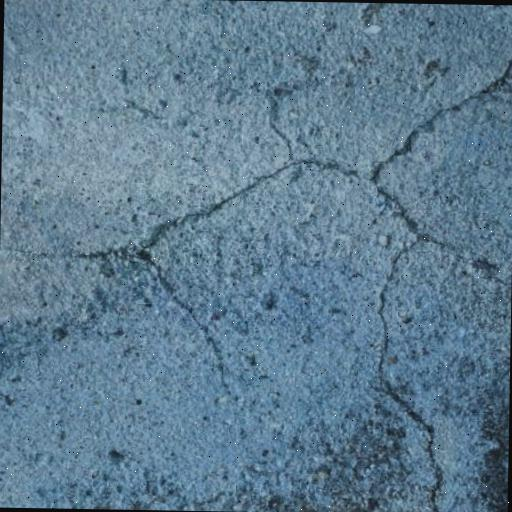spalling: (75, 55, 512, 386), (368, 182, 450, 512)
